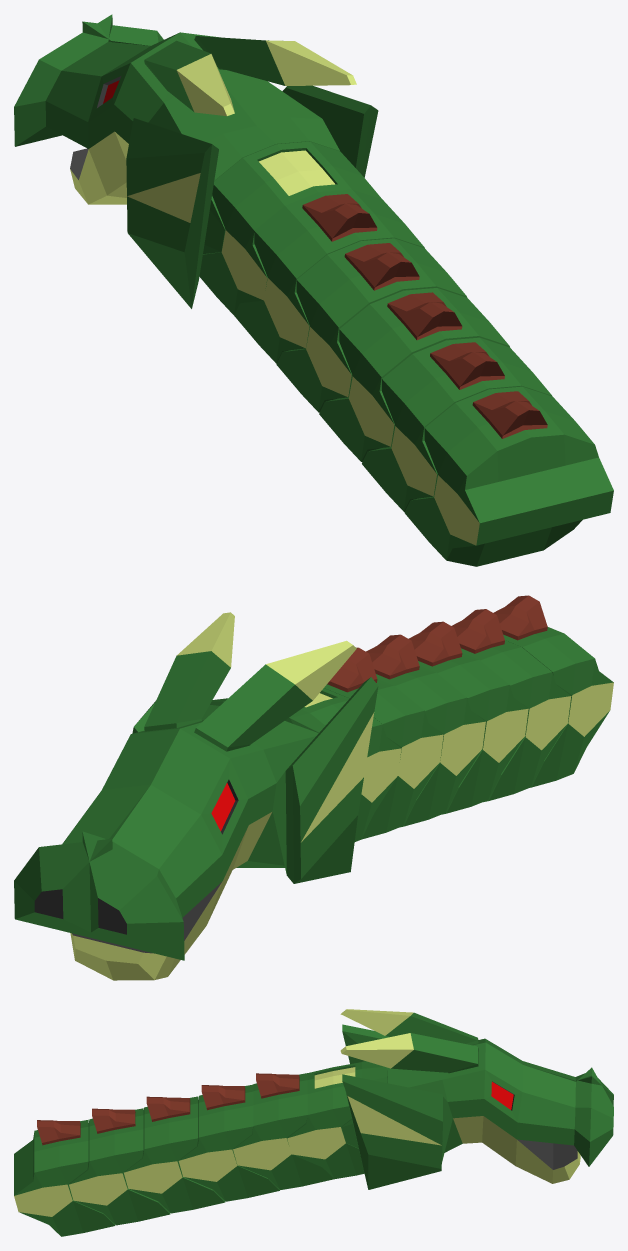
Rendered from dragon1.fbx.
3 views of the same model, one above another, from view 1: azimuth 30°, elevation 25°; view 2: azimuth 150°, elevation 25°; view 3: azimuth 270°, elevation 25° (orthographic). The views are drawn at different scales.
Parts seen in each view (by area): view 1: Head, Cube.005, Cube.003, Cube.002, Cube.004, Cube.001, Cube; view 2: Head, Cube.005, Cube.003, Cube.004, Cube.002, Cube.001, Cube; view 3: Head, Cube.005, Cube.004, Cube.003, Cube.002, Cube.001, Cube.
Part boxes in pixels (box(x1,y1,x2,y2)): Head: box(14, 14, 378, 308); Cube.005: box(404, 386, 613, 566); Cube.003: box(319, 288, 509, 462); Cube.002: box(276, 238, 467, 412); Cube.004: box(362, 337, 552, 511); Cube.001: box(234, 189, 424, 363); Cube: box(199, 141, 381, 314); Head: box(14, 612, 378, 980); Cube.005: box(493, 595, 613, 787); Cube.003: box(408, 621, 528, 814); Cube.004: box(452, 609, 571, 802); Cube.002: box(366, 634, 485, 827); Cube.001: box(324, 647, 443, 839); Cube: box(301, 688, 401, 841); Head: box(340, 1009, 613, 1189); Cube.005: box(14, 1119, 115, 1236); Cube.004: box(69, 1108, 170, 1225); Cube.003: box(123, 1096, 225, 1213); Cube.002: box(178, 1084, 279, 1201); Cube.001: box(233, 1073, 333, 1189); Cube: box(287, 1062, 364, 1179).
Bounding box in the file's own units: 178 × 306 × 829.
